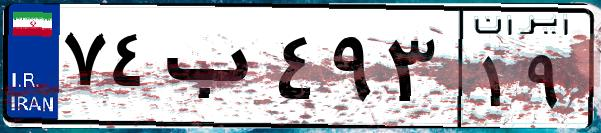1: (475, 38, 525, 113)
3: (385, 28, 445, 110)
4: (270, 28, 330, 110), (110, 28, 158, 98)
7: (57, 26, 110, 100)
9: (330, 28, 385, 110), (525, 38, 570, 115)
ب: (158, 20, 270, 120)
